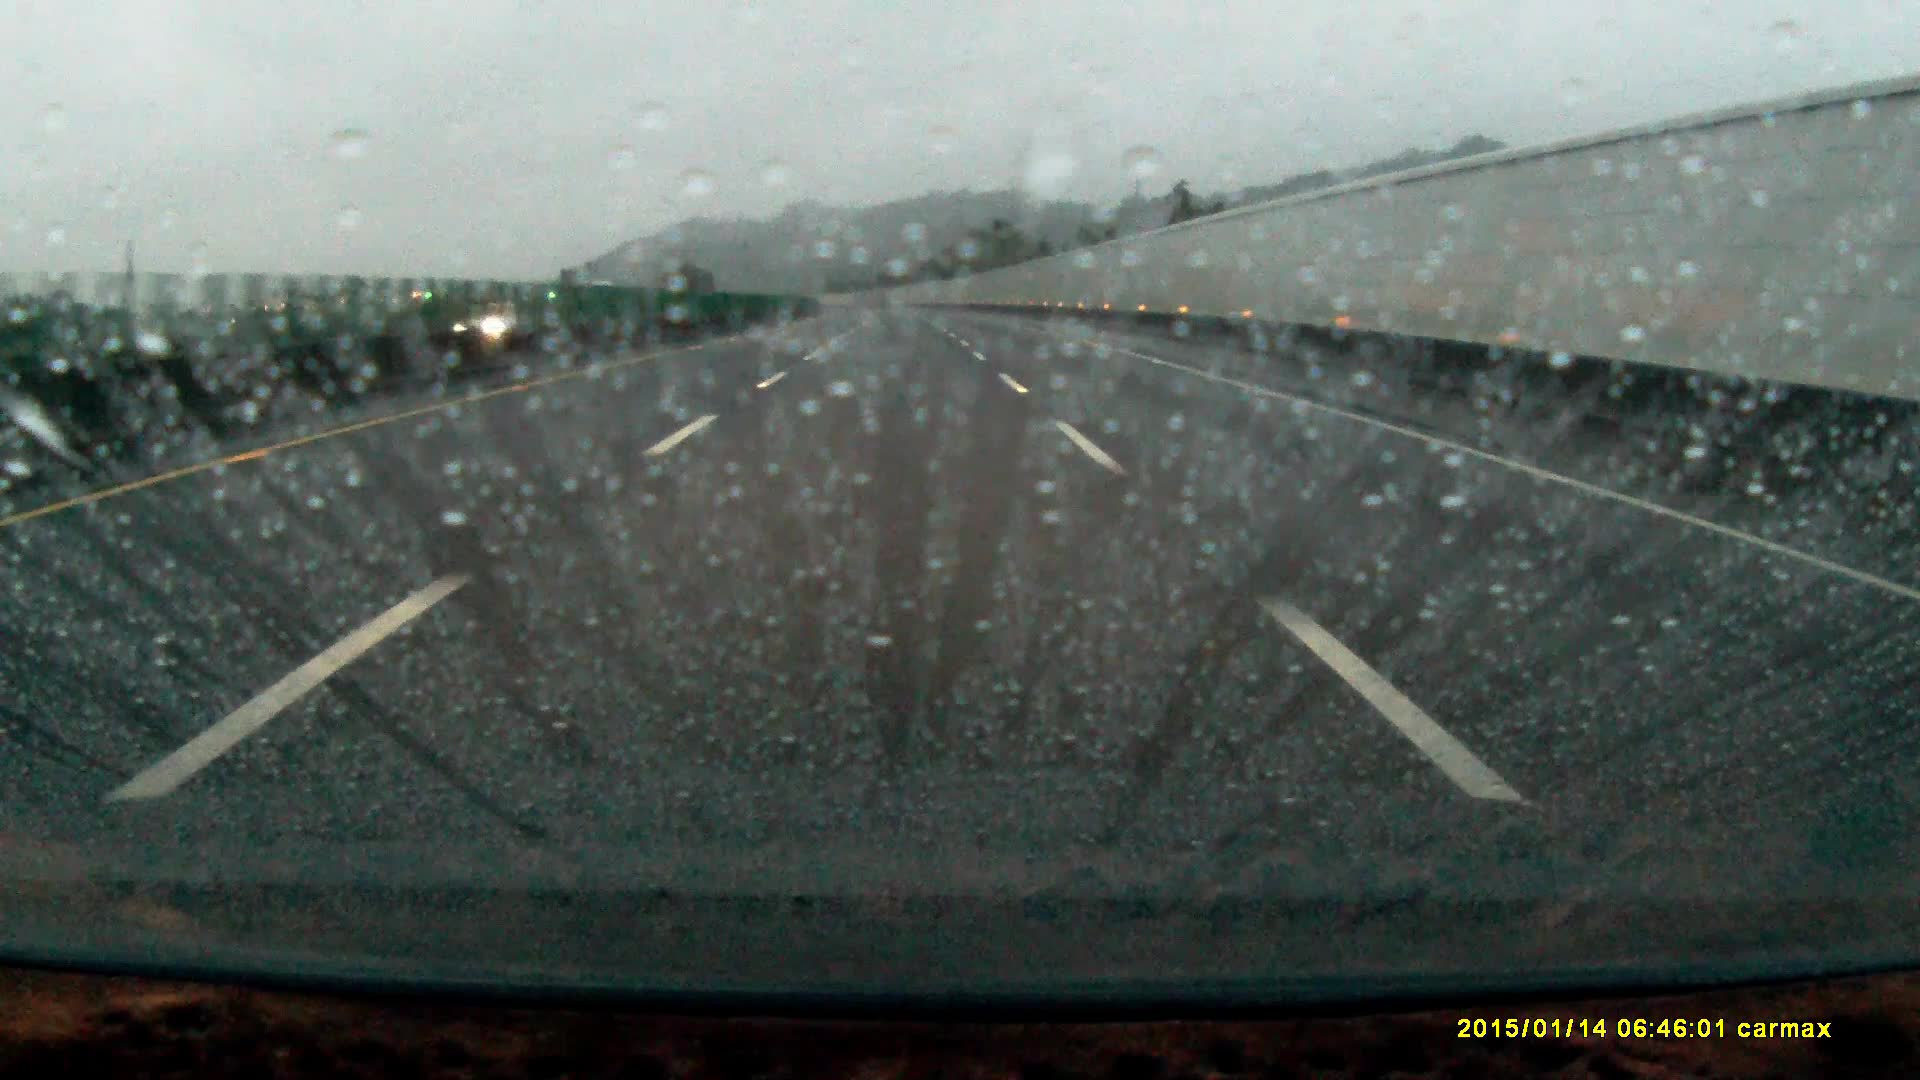vehicle: (440, 297, 520, 342)
